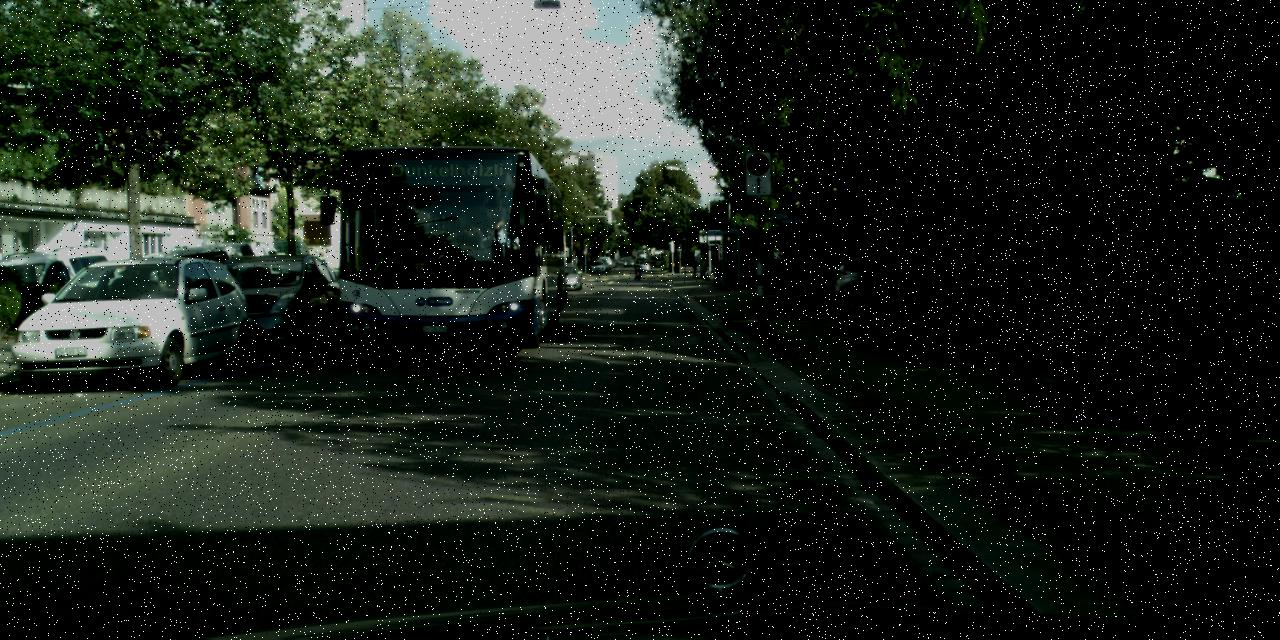ped: (634, 261, 640, 279)
